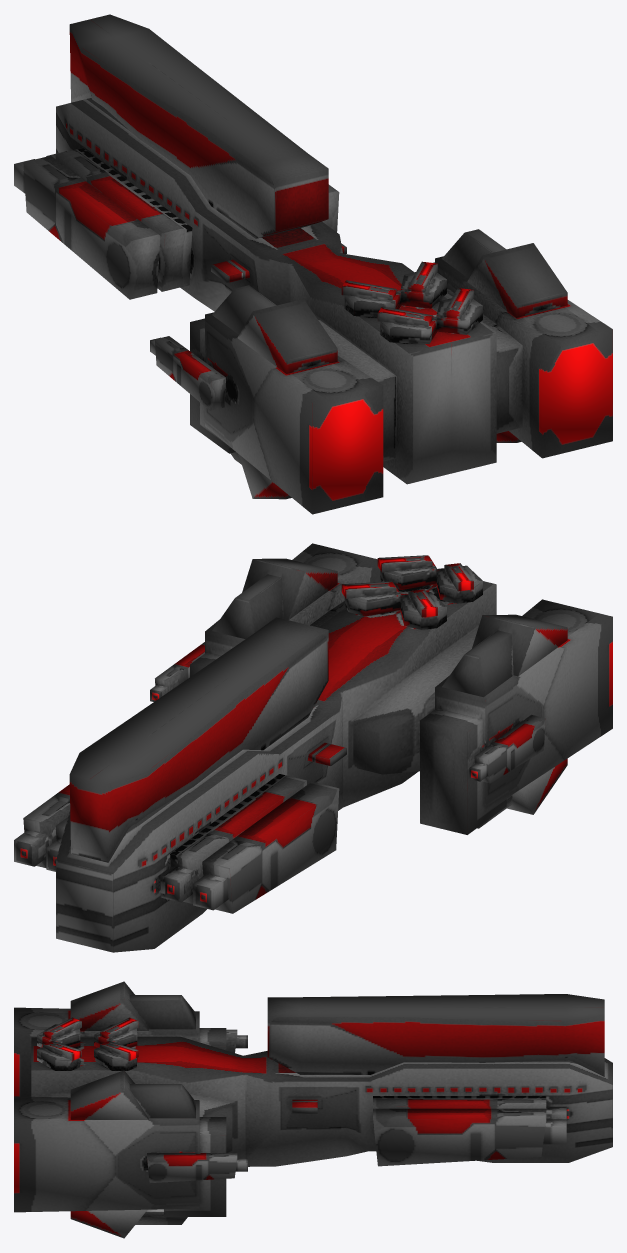
Rendered from RSFrigate.fbx.
3 renders of one model, top to bottom at view 1: azimuth 30°, elevation 25°; view 2: azimuth 150°, elevation 25°; view 3: azimuth 270°, elevation 25°, orthographic. The views are drawn at different scales.
Parts seen in each view (by area): view 1: RSCruiserMod; view 2: RSCruiserMod; view 3: RSCruiserMod.
Part boxes in pixels (bbox=[...]): RSCruiserMod: bbox=[14, 14, 612, 514]; RSCruiserMod: bbox=[14, 543, 612, 952]; RSCruiserMod: bbox=[14, 981, 612, 1238].
Size of the model in its own units: 19.58 by 12.52 by 38.42.
1 material, 1 textured.
